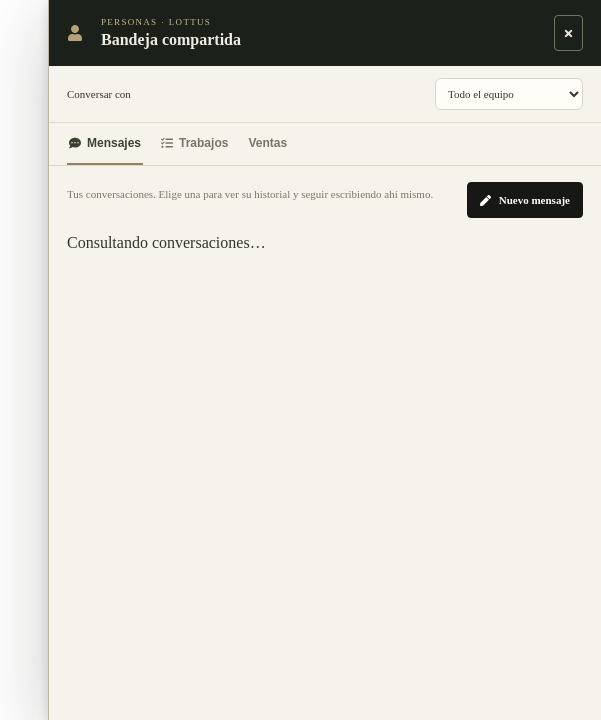
Test: Personas y colaboración en la oficina › guarda estados con revisión y conserva el conflicto visible sin sobrescribir avances
This screenshot has width=601, height=720.
Click the button "Trabajos" at (195, 144), box [159,123,230,165]
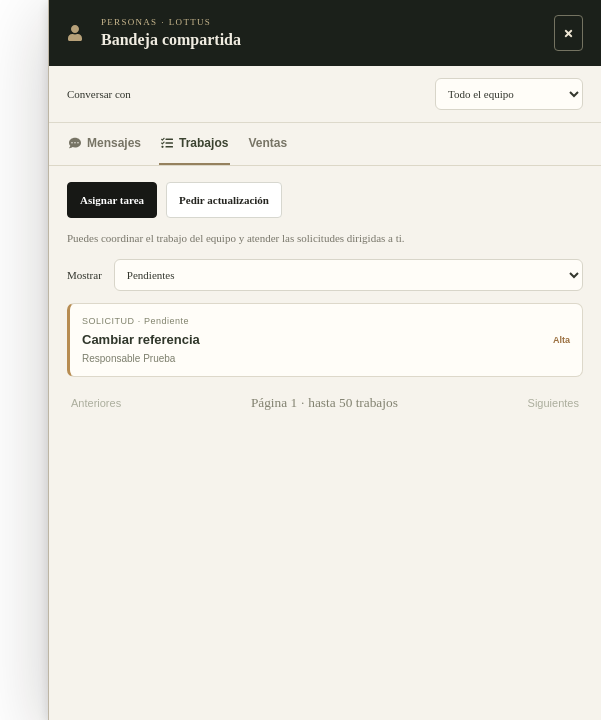
Click the button "Cambiar referencia" at (108, 320), box [67,302,583,376]
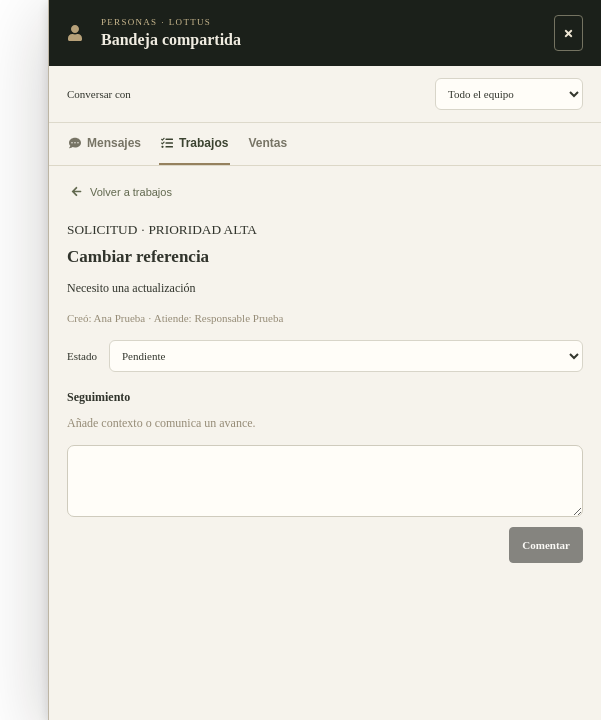
Select "En curso" in the dropdown named "Estado del trabajo" at (346, 356), box [109,340,583,372]
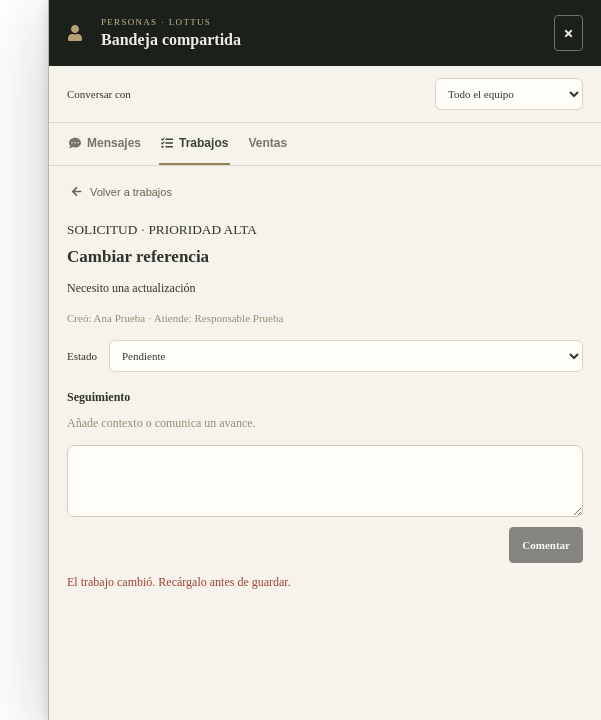
Check: the message shows "El trabajo cambió", box [67,575,291,589]
